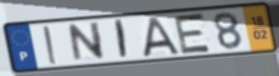8: (213, 11, 244, 51)
A: (142, 15, 181, 59)
E: (172, 11, 214, 56)
I: (41, 24, 60, 66), (114, 18, 129, 61)
N: (66, 20, 107, 64)
